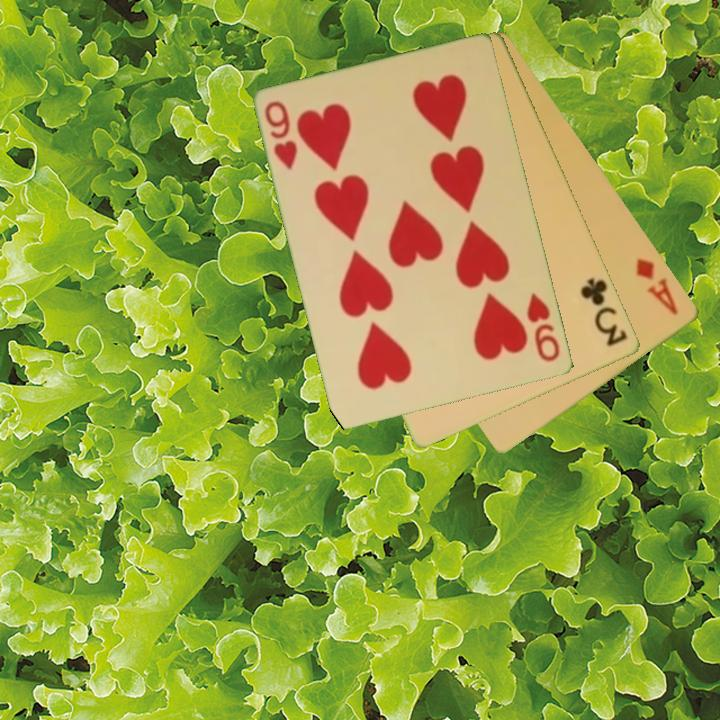3c: (577, 274, 631, 350)
9h: (261, 97, 301, 174), (523, 290, 563, 365)
Ad: (633, 254, 682, 318)
